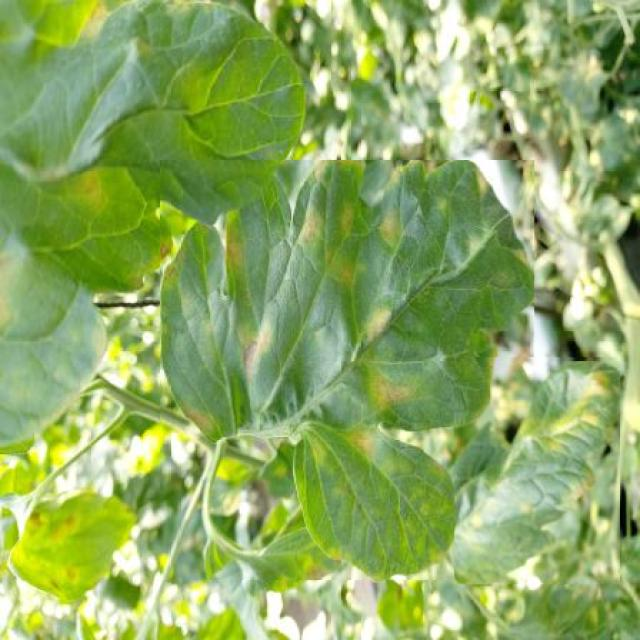Leaf Mold: (160, 160, 534, 580), (454, 357, 620, 584)
